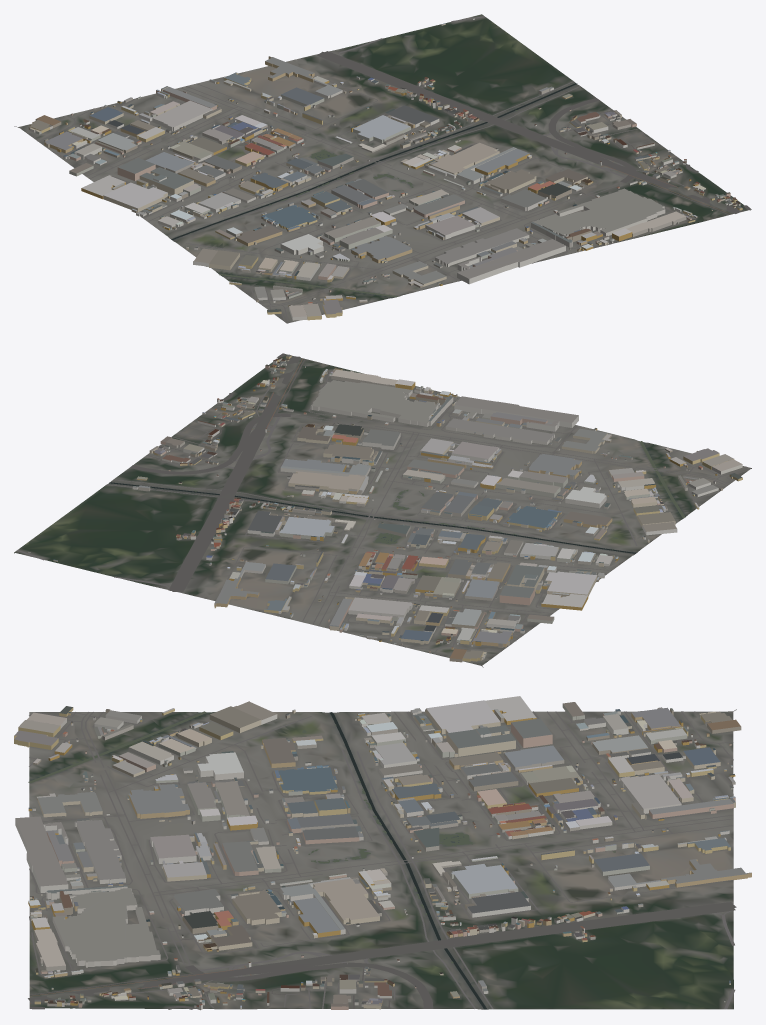
3 views of the same model, one above another, from view 1: azimuth 30°, elevation 25°; view 2: azimuth 150°, elevation 25°; view 3: azimuth 270°, elevation 25° (orthographic). The views are drawn at different scales.
Parts seen in each view (by area): view 1: ground, buildings, roads, water; view 2: ground, buildings, roads, water; view 3: ground, buildings, roads, water.
Boxes of the visible parts, x1,y1,x2,y2 form: ground: (18,14,750,323); buildings: (28,18,742,320); roads: (14,16,751,322); water: (171,83,577,297); ground: (14,354,751,665); buildings: (28,354,742,662); roads: (17,353,749,667); water: (109,441,685,579); ground: (29,711,733,1009); buildings: (14,696,751,1010); roads: (28,709,736,1009); water: (28,711,615,1009).
Size of the model in its own units: 1460 by 27.52 by 1469.
